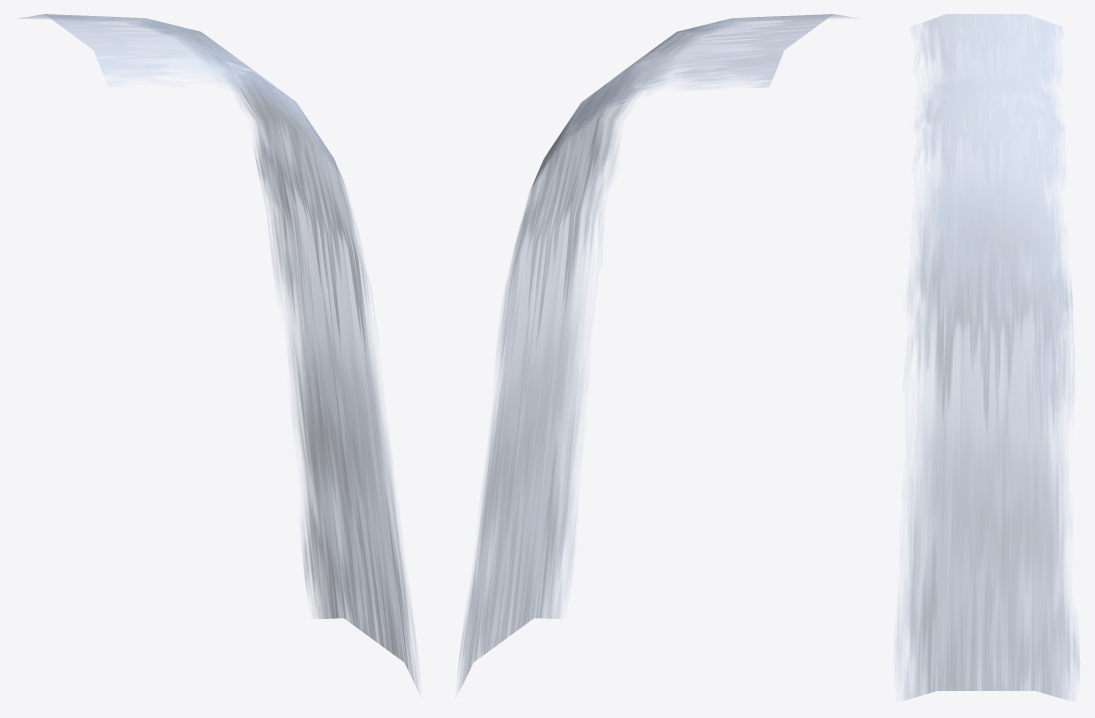
The model's file is oa_ho_waterfall01_01-1.glb.
The picture shows the model from 3 angles, left to right: view 1: azimuth 30°, elevation 25°; view 2: azimuth 150°, elevation 25°; view 3: azimuth 270°, elevation 25°; orthographic projection. The views are drawn at different scales.
Parts seen in each view (by area): view 1: oa_ho_waterfall01_01; view 2: oa_ho_waterfall01_01; view 3: oa_ho_waterfall01_01.
Part boxes in pixels (<box>): oa_ho_waterfall01_01: <box>18,14,418,690</box>; oa_ho_waterfall01_01: <box>458,14,851,690</box>; oa_ho_waterfall01_01: <box>897,14,1079,699</box>.
Bounding box in the file's own units: 18.21 × 39.09 × 11.71.
1 material, 1 textured.
